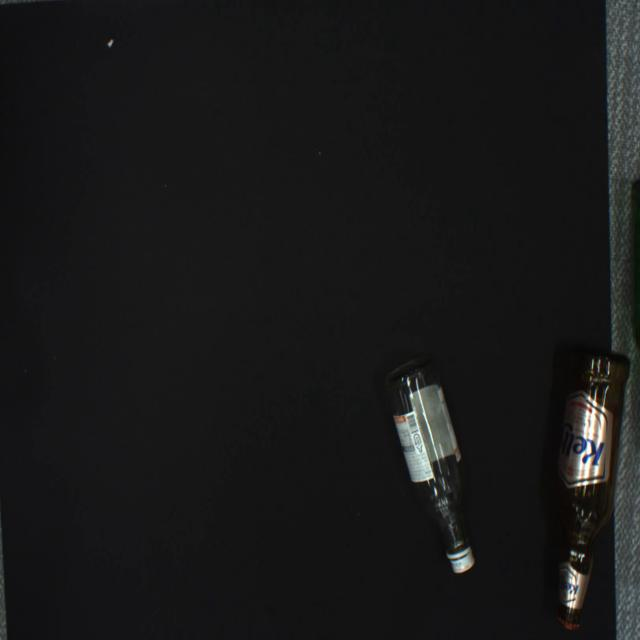beer-bottle: (553, 347, 629, 629)
soju-bottle: (383, 357, 475, 574)
